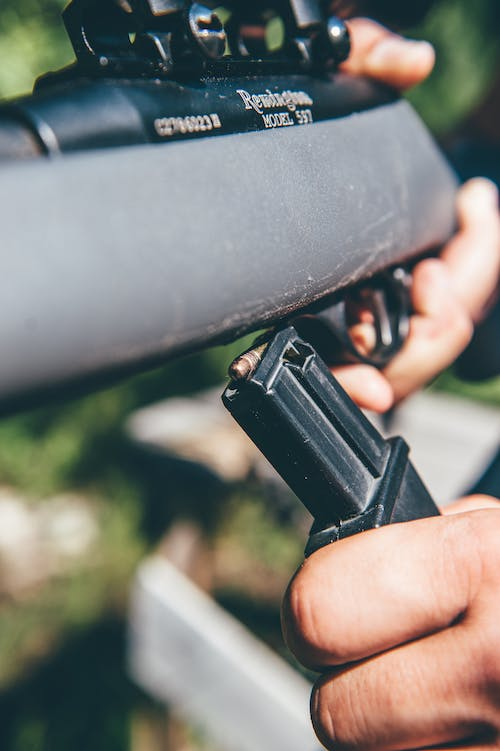gun: (0, 0, 500, 425)
